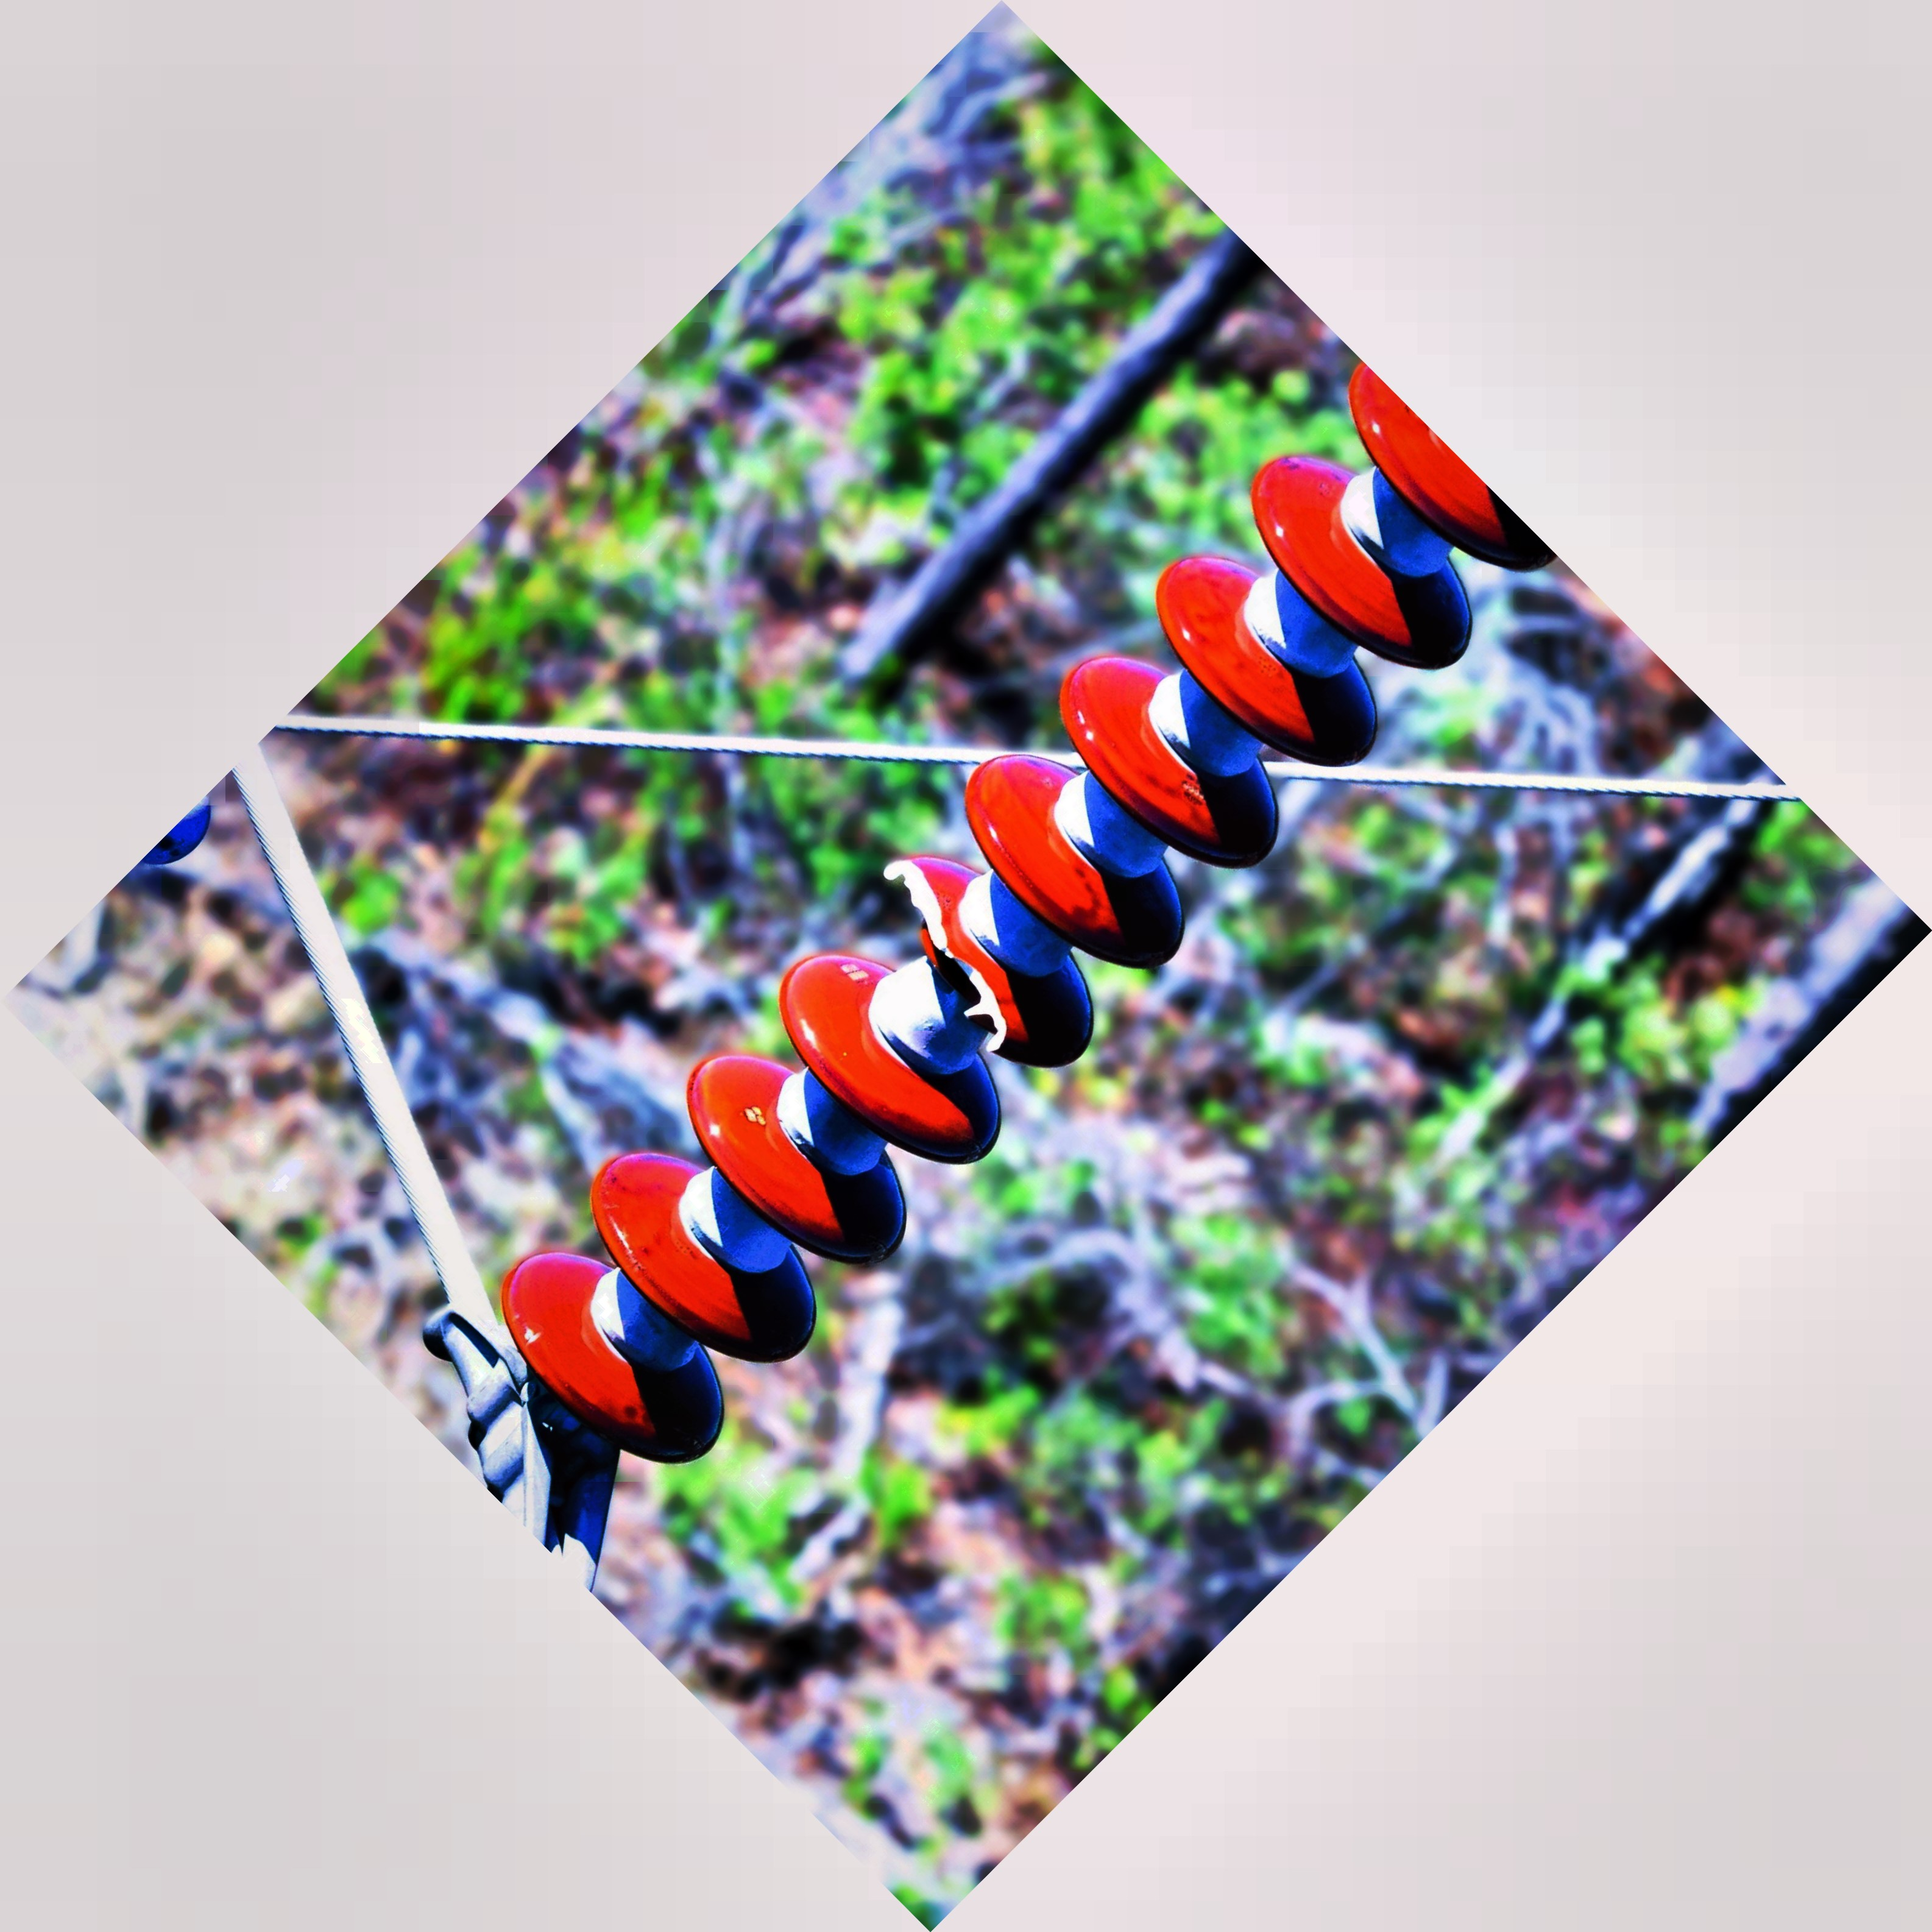insulator breakage: (863, 842, 1116, 1081)
